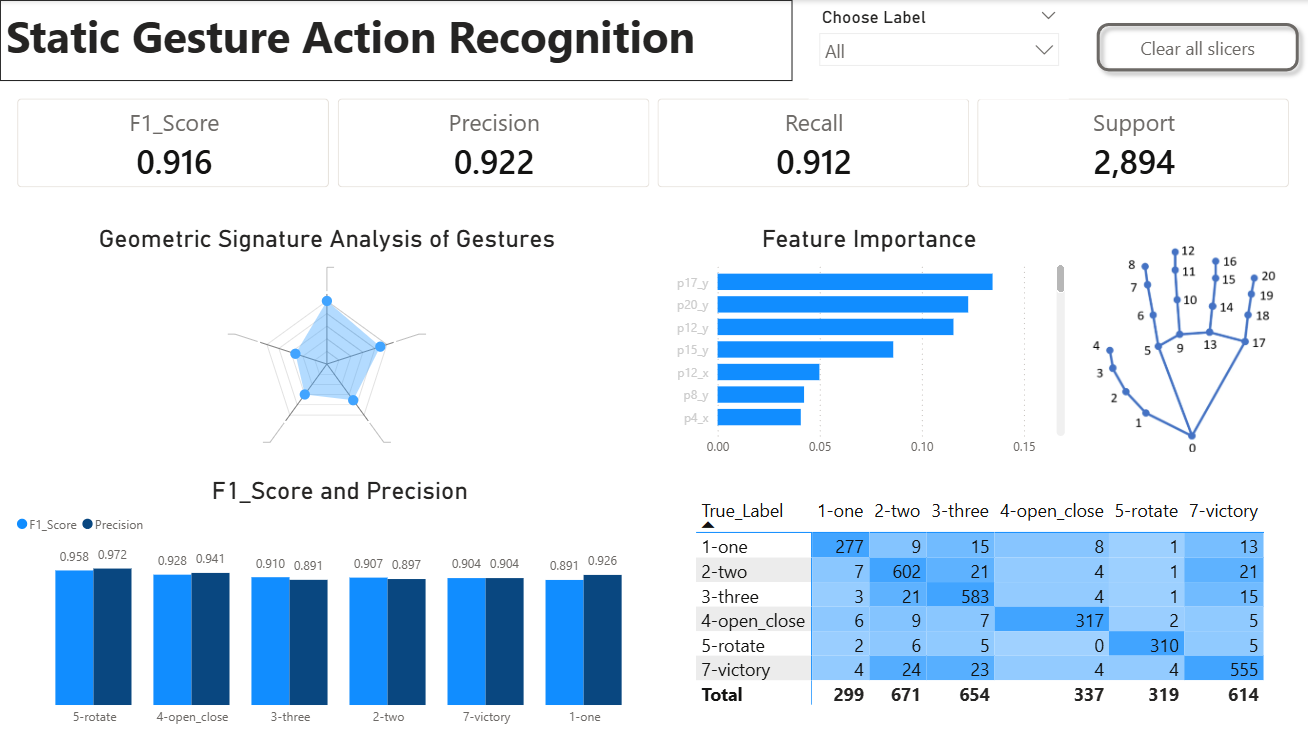

The page's visual inventory and layout, read from the dashboard file:
{"tool":"powerbi","page":{"name":"XGBoost","canvas":[1280,720],"ordinal":1},"visuals":[{"type":"group","id":"g1","title":"Group 1","box":[0,94.6,1280,626.1],"z":0},{"type":"shape","box":[0,94.6,640,107.1],"z":0,"group":"g1"},{"type":"cardVisual","fields":{"Data":["Avg(model_metrics.F1_Score)","Avg(model_metrics.Precision)","Avg(model_metrics.Recall)","Sum(model_metrics.Support)"]},"box":[0,94.5,1280,107],"z":1000},{"type":"shape","box":[640,205.9,640,249],"z":1000,"group":"g1"},{"type":"barChart","title":"Feature Importance","fields":{"Category":["feature_importances.Feature"],"Y":["Sum(feature_importances.Importance)"]},"box":[654,218.4,392.6,236.8],"z":2000},{"type":"shape","box":[640,454.9,640,265.7],"z":2000,"group":"g1"},{"type":"shape","box":[0,205.9,640,249],"z":3000,"group":"g1"},{"type":"clusteredColumnChart","title":"F1_Score and Precision","fields":{"Category":["model_metrics.Class"],"Y":["Sum(model_metrics.F1_Score)","Sum(model_metrics.Precision)"]},"box":[11,466.3,642.9,254],"z":3000},{"type":"RadarChart1446119667547","title":"Geometric Signature Analysis of Gestures","fields":{"Y":["Avg(powerbi_radar_fingers.Avg_Distance)"],"Category":["powerbi_radar_fingers.Finger_Name"]},"box":[0,218.4,640,247.7],"z":4000},{"type":"shape","box":[0,454.9,640,265.7],"z":4000,"group":"g1"},{"type":"slicer","fields":{"Values":["model_metrics.Class"]},"box":[791.7,1.4,254.6,93.2],"z":5000},{"type":"shape","box":[640,94.6,640,107.1],"z":5000,"group":"g1"},{"type":"actionButton","box":[1064.3,13.9,215.7,65.4],"z":6000},{"type":"textbox","box":[0,0,775,79.3],"z":7000},{"type":"image","box":[1046,235.6,200.6,199.5],"z":8000},{"type":"pivotTable","fields":{"Rows":["confusion_matrix.True_Label"],"Columns":["confusion_matrix.Predicted_Label"],"Values":["Sum(confusion_matrix.Count)"]},"box":[666.4,477.2,613.6,243.5],"z":9000}]}

Visuals, with their boxes in screenshot pixels (x1, y1, x2, y2), scaled from the page's 1280x720 canvas onto the 1308x734 screenshot:
"Group 1" group: select_region(0, 96, 1307, 733)
shape: select_region(0, 96, 654, 206)
cardVisual - Avg(model_metrics.F1_Score) x Avg(model_metrics.Precision): select_region(0, 96, 1307, 205)
shape: select_region(654, 210, 1307, 464)
"Feature Importance" barChart: select_region(668, 223, 1069, 464)
shape: select_region(654, 464, 1307, 733)
shape: select_region(0, 210, 654, 464)
"F1_Score and Precision" clusteredColumnChart: select_region(11, 475, 668, 733)
"Geometric Signature Analysis of Gestures" RadarChart1446119667547: select_region(0, 223, 654, 475)
shape: select_region(0, 464, 654, 733)
slicer - model_metrics.Class: select_region(809, 1, 1069, 96)
shape: select_region(654, 96, 1307, 206)
actionButton: select_region(1088, 14, 1307, 81)
textbox: select_region(0, 0, 792, 81)
image: select_region(1069, 240, 1274, 444)
pivotTable - confusion_matrix.True_Label x confusion_matrix.Predicted_Label: select_region(681, 486, 1307, 733)
